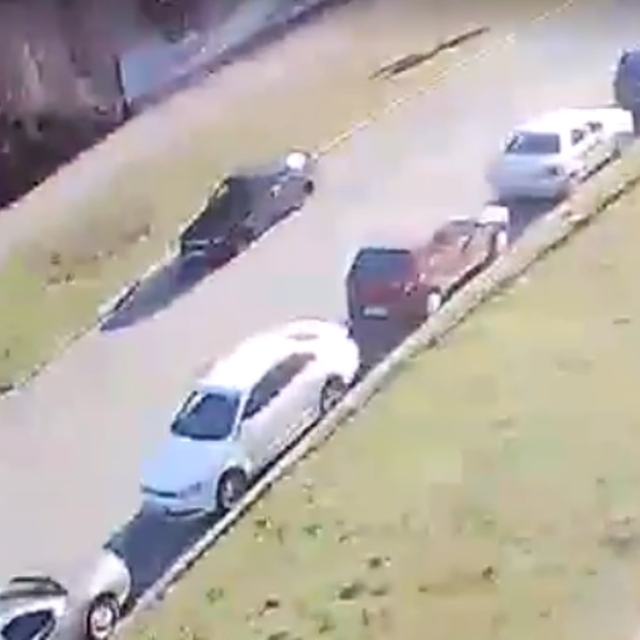car: (137, 321, 361, 522), (346, 201, 509, 327), (486, 105, 635, 201), (1, 544, 148, 640), (177, 163, 315, 259)
